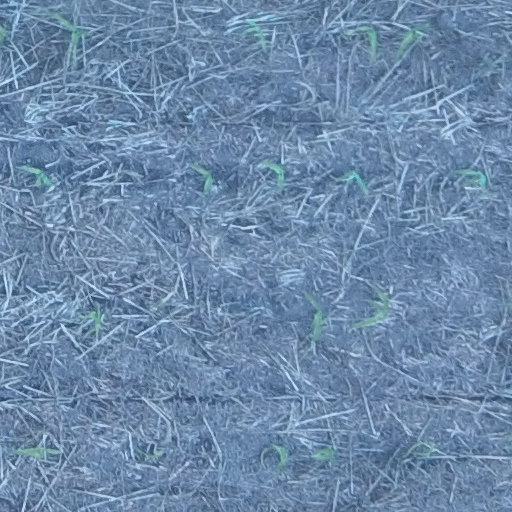planta: (43, 11, 91, 56), (353, 287, 389, 329), (395, 24, 429, 59), (346, 24, 378, 59), (240, 17, 268, 54), (335, 169, 371, 196), (303, 294, 323, 341), (258, 159, 286, 189), (7, 445, 63, 460), (19, 165, 57, 187), (456, 168, 488, 193), (190, 162, 212, 194), (400, 439, 434, 458), (80, 307, 103, 334), (265, 444, 288, 469), (134, 445, 164, 459), (315, 446, 334, 460)
